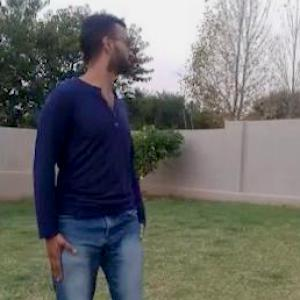follow: (34, 7, 154, 299)
